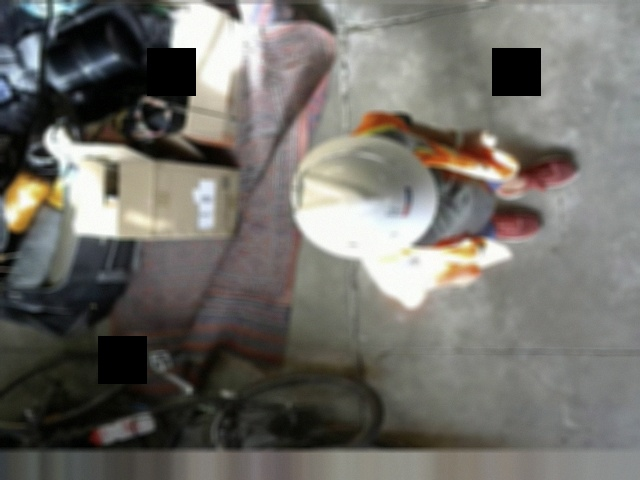one: (290, 167, 299, 211)
